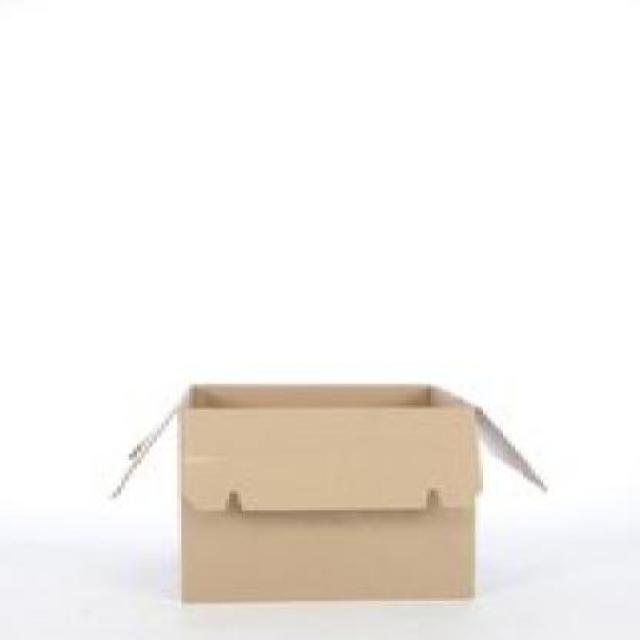box: (104, 373, 562, 624)
